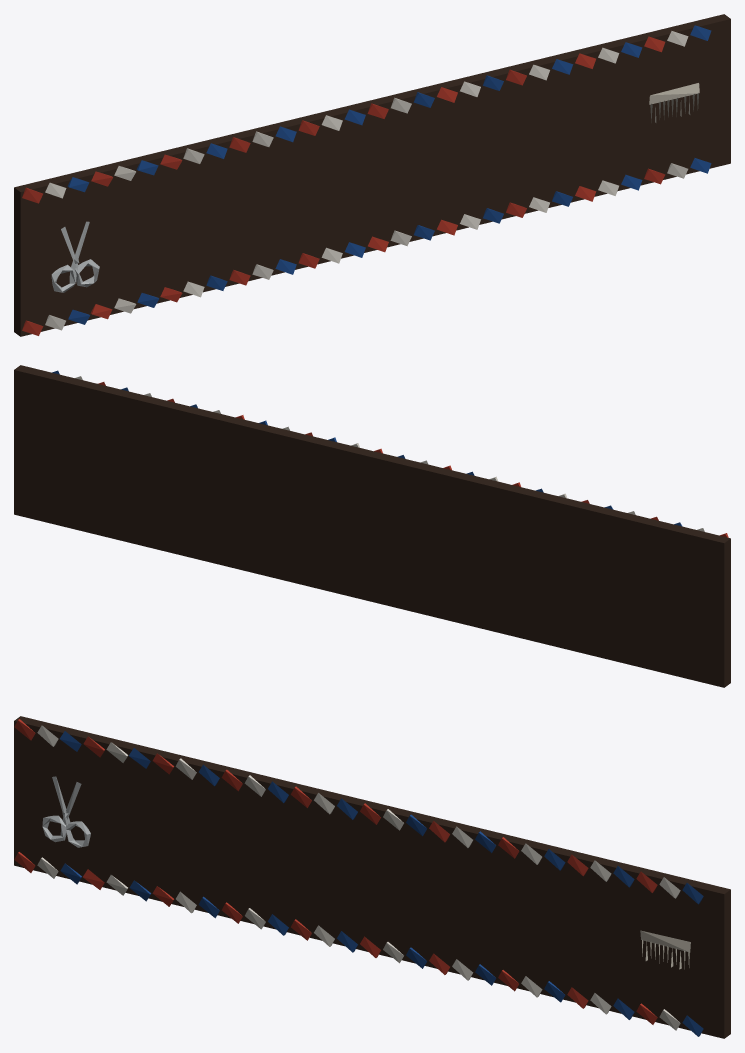
File: bang_hot_toc_anh_ba_40.glb
3 views of the same model, one above another, from view 1: azimuth 30°, elevation 25°; view 2: azimuth 150°, elevation 25°; view 3: azimuth 330°, elevation 25° (orthographic).
Parts seen in each view (by area): view 1: bang_hot_toc_anh_ba_40; view 2: bang_hot_toc_anh_ba_40; view 3: bang_hot_toc_anh_ba_40.
Part boxes in pixels (box(x1,y1,x2,y2)): bang_hot_toc_anh_ba_40: box(14, 14, 730, 336); bang_hot_toc_anh_ba_40: box(14, 365, 730, 687); bang_hot_toc_anh_ba_40: box(14, 716, 730, 1038).
Size of the model in its own units: 3.7 by 0.7518 by 0.0964.
